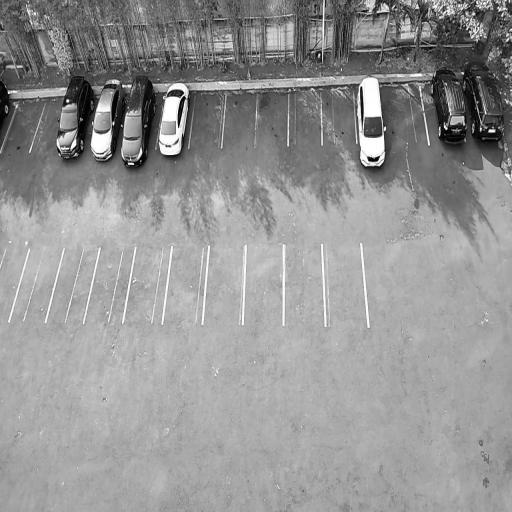Car: (51, 72, 98, 162), (117, 69, 159, 169), (459, 58, 508, 143), (354, 70, 392, 172), (86, 74, 127, 165), (427, 64, 470, 146), (154, 76, 194, 160)
Space Available: (45, 247, 100, 322), (9, 248, 64, 322), (322, 243, 368, 327), (84, 248, 135, 322), (123, 246, 172, 323), (162, 246, 209, 323), (284, 244, 326, 324), (203, 246, 246, 324), (243, 245, 284, 324), (0, 100, 46, 152), (0, 247, 29, 322), (221, 93, 258, 148), (321, 89, 357, 144), (189, 94, 226, 147), (288, 91, 321, 146), (255, 93, 289, 145), (30, 99, 63, 152)
